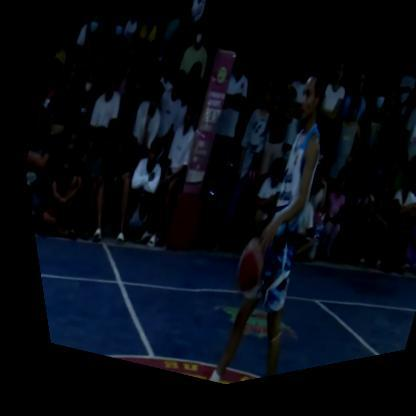basketball: (212, 242, 270, 315)
